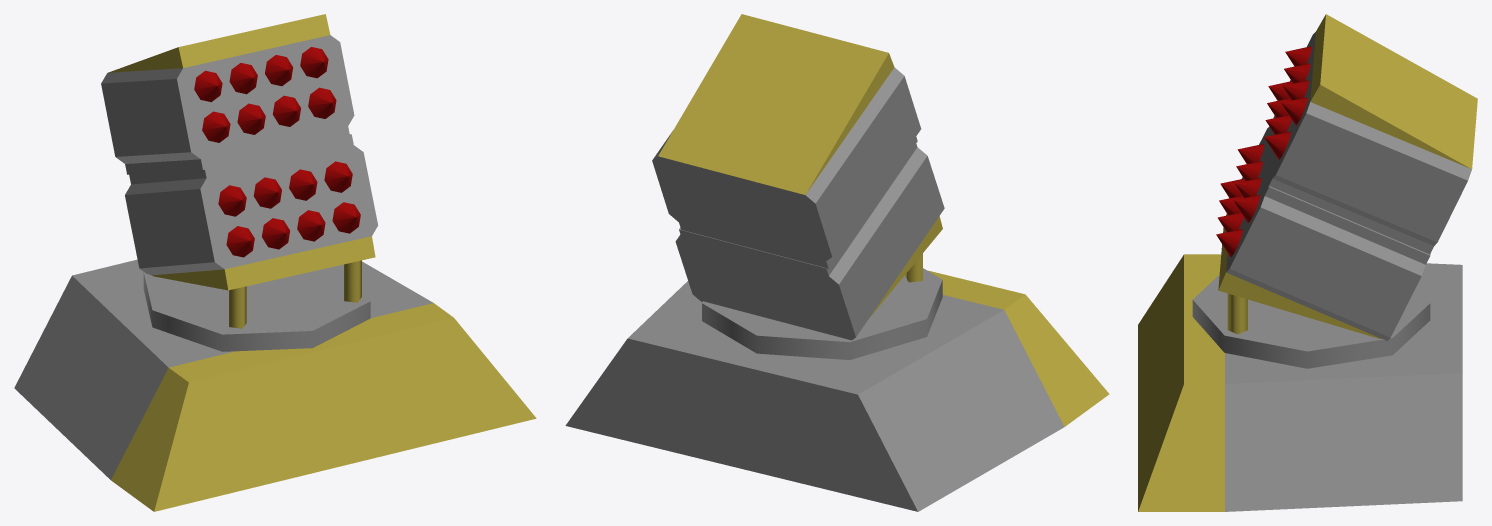
File: Weapon_MissileLauncher.FBX
The picture shows the model from 3 angles, left to right: view 1: azimuth 30°, elevation 25°; view 2: azimuth 150°, elevation 25°; view 3: azimuth 270°, elevation 25°; orthographic projection. The views are drawn at different scales.
Parts seen in each view (by area): view 1: Missile_Launcher; view 2: Missile_Launcher; view 3: Missile_Launcher.
Part boxes in pixels (x1,y1,x2,y2): Missile_Launcher: (14, 14, 536, 511); Missile_Launcher: (565, 14, 1109, 511); Missile_Launcher: (1138, 14, 1477, 511).
Bounding box in the file's own units: 226 × 207 × 173.
